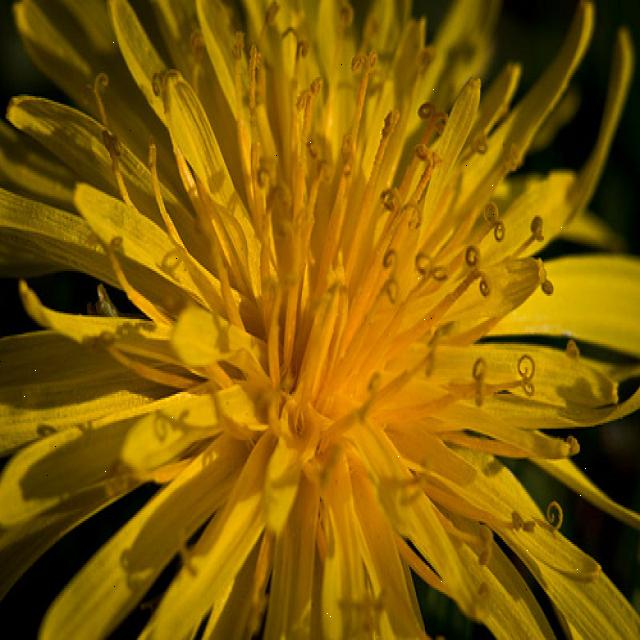Unbloomed: (2, 4, 635, 634)
